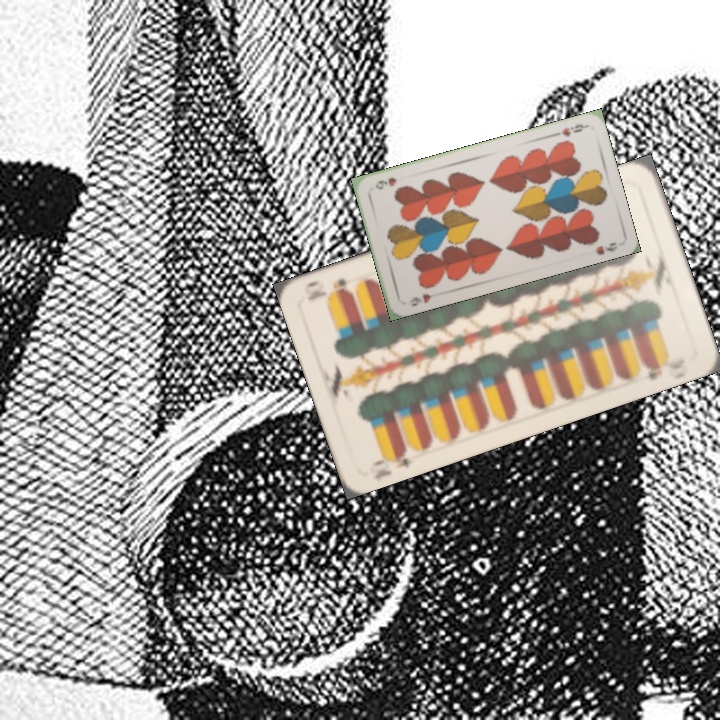E10: (368, 442, 421, 479)
H9: (557, 119, 589, 139), (406, 290, 434, 309)
